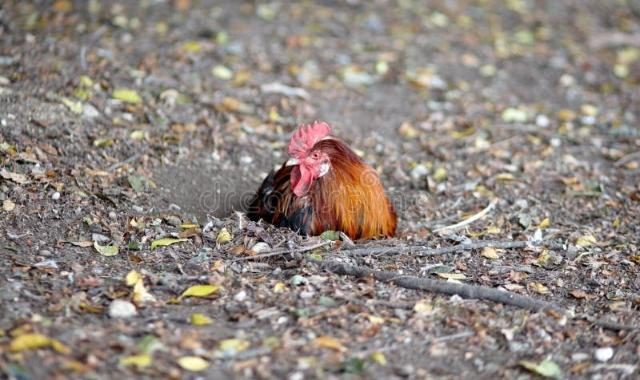Chicken: (246, 119, 397, 243)
